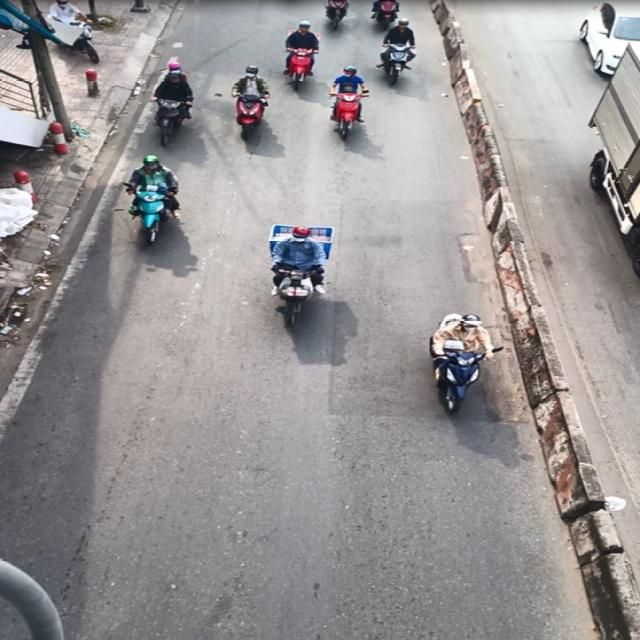motor: (248, 224, 342, 342), (120, 154, 203, 258), (411, 312, 491, 418), (147, 60, 212, 150), (230, 66, 278, 146), (333, 63, 370, 138)
